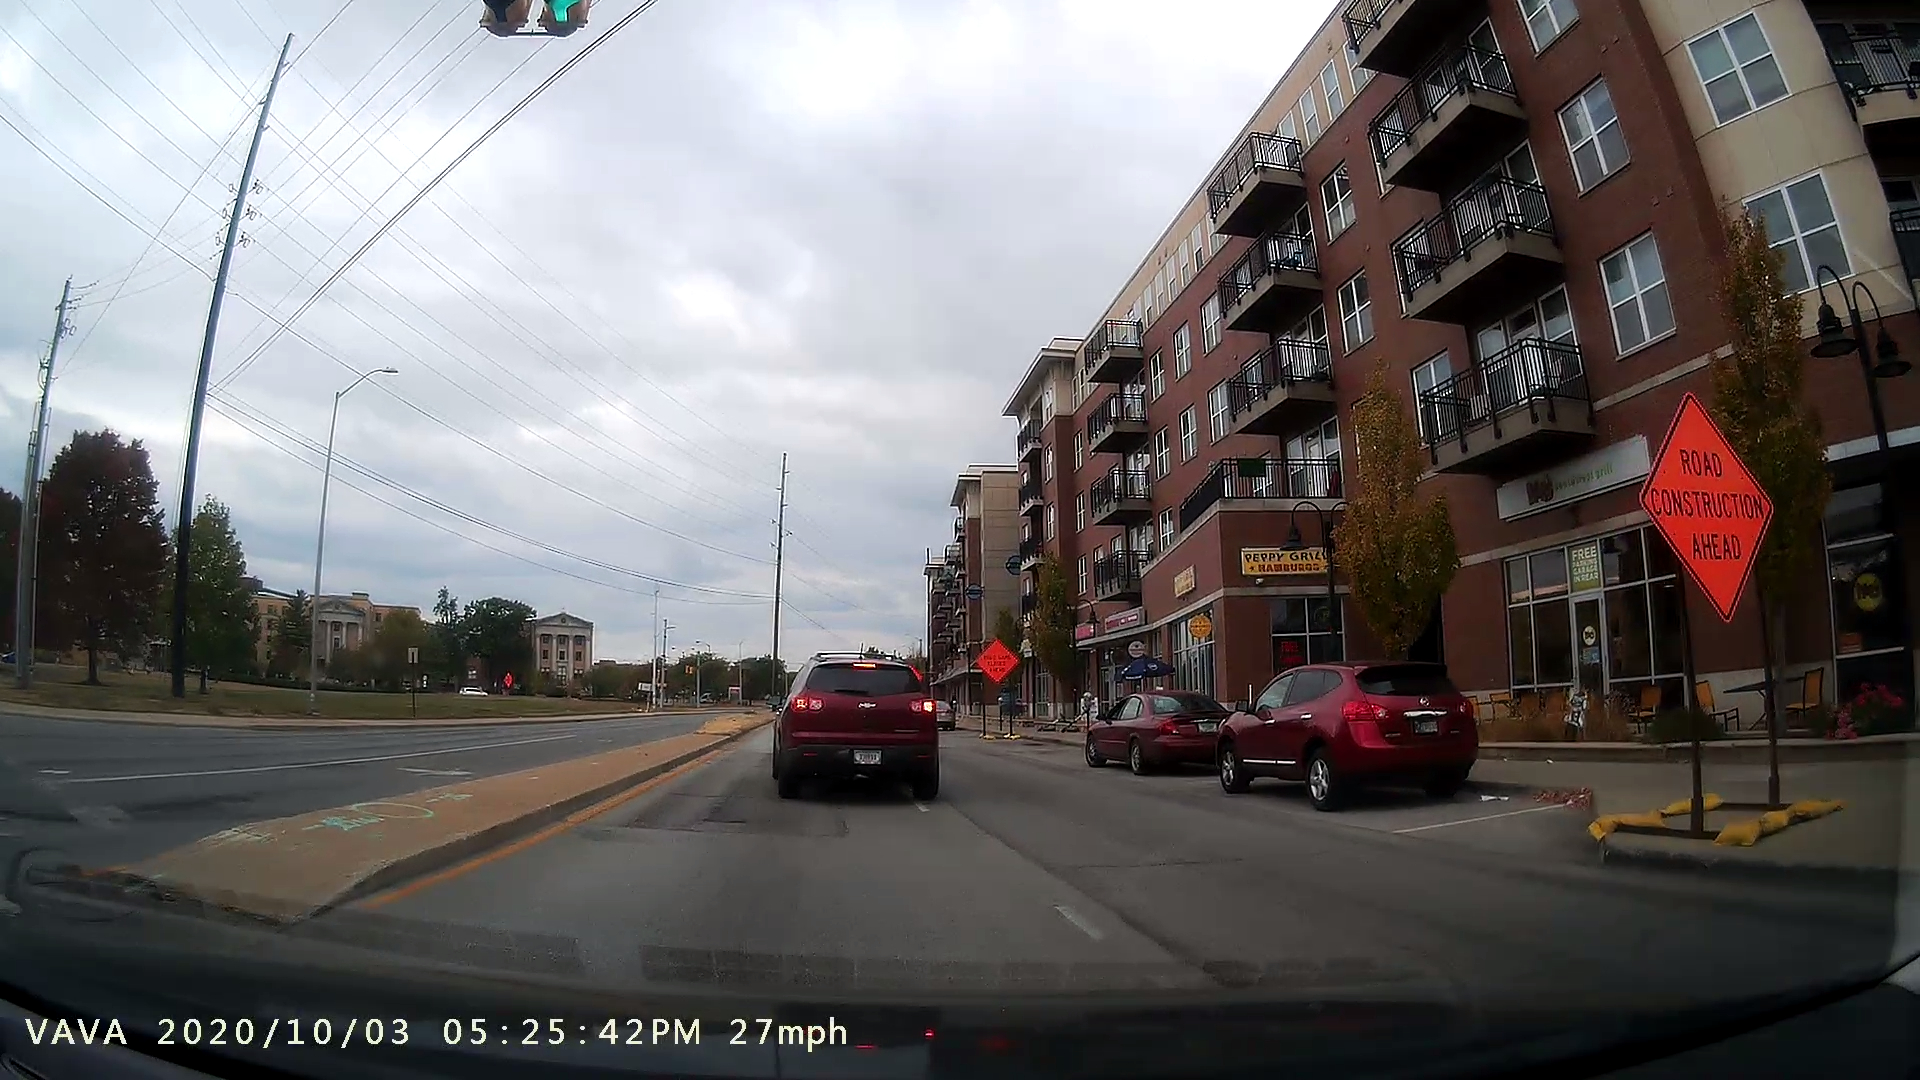ttcs_road_const_ahead: (1582, 382, 1845, 848)
